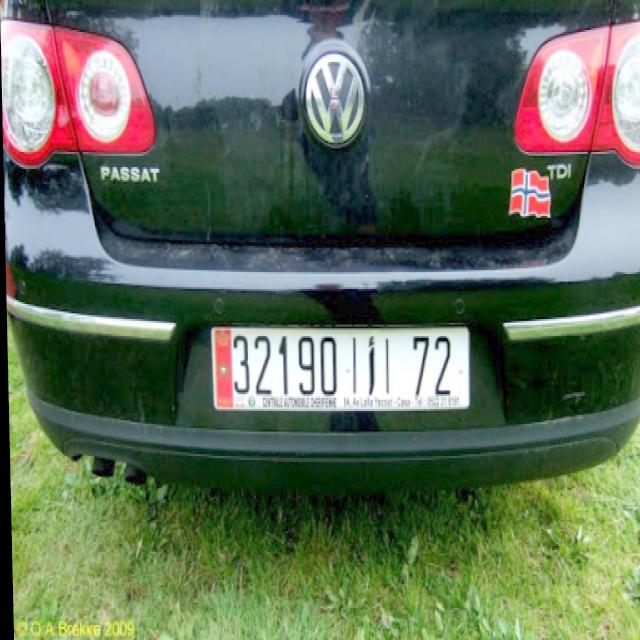License-Plate: (210, 329, 466, 410)
